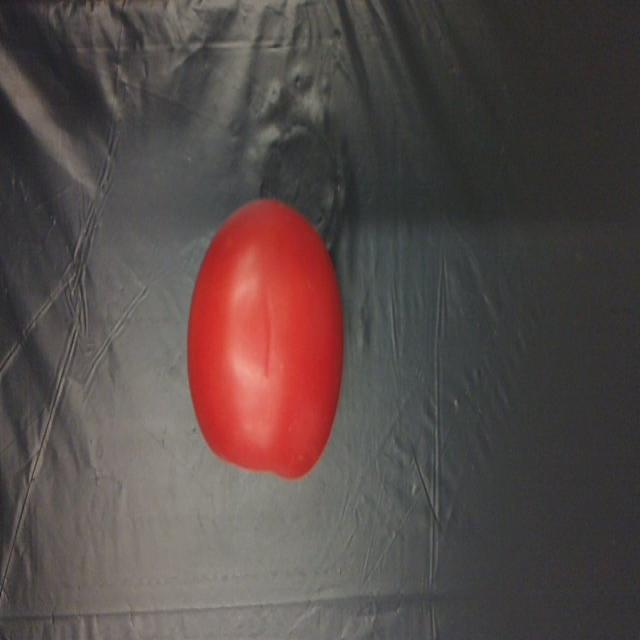kirmizi: (186, 192, 347, 478)
